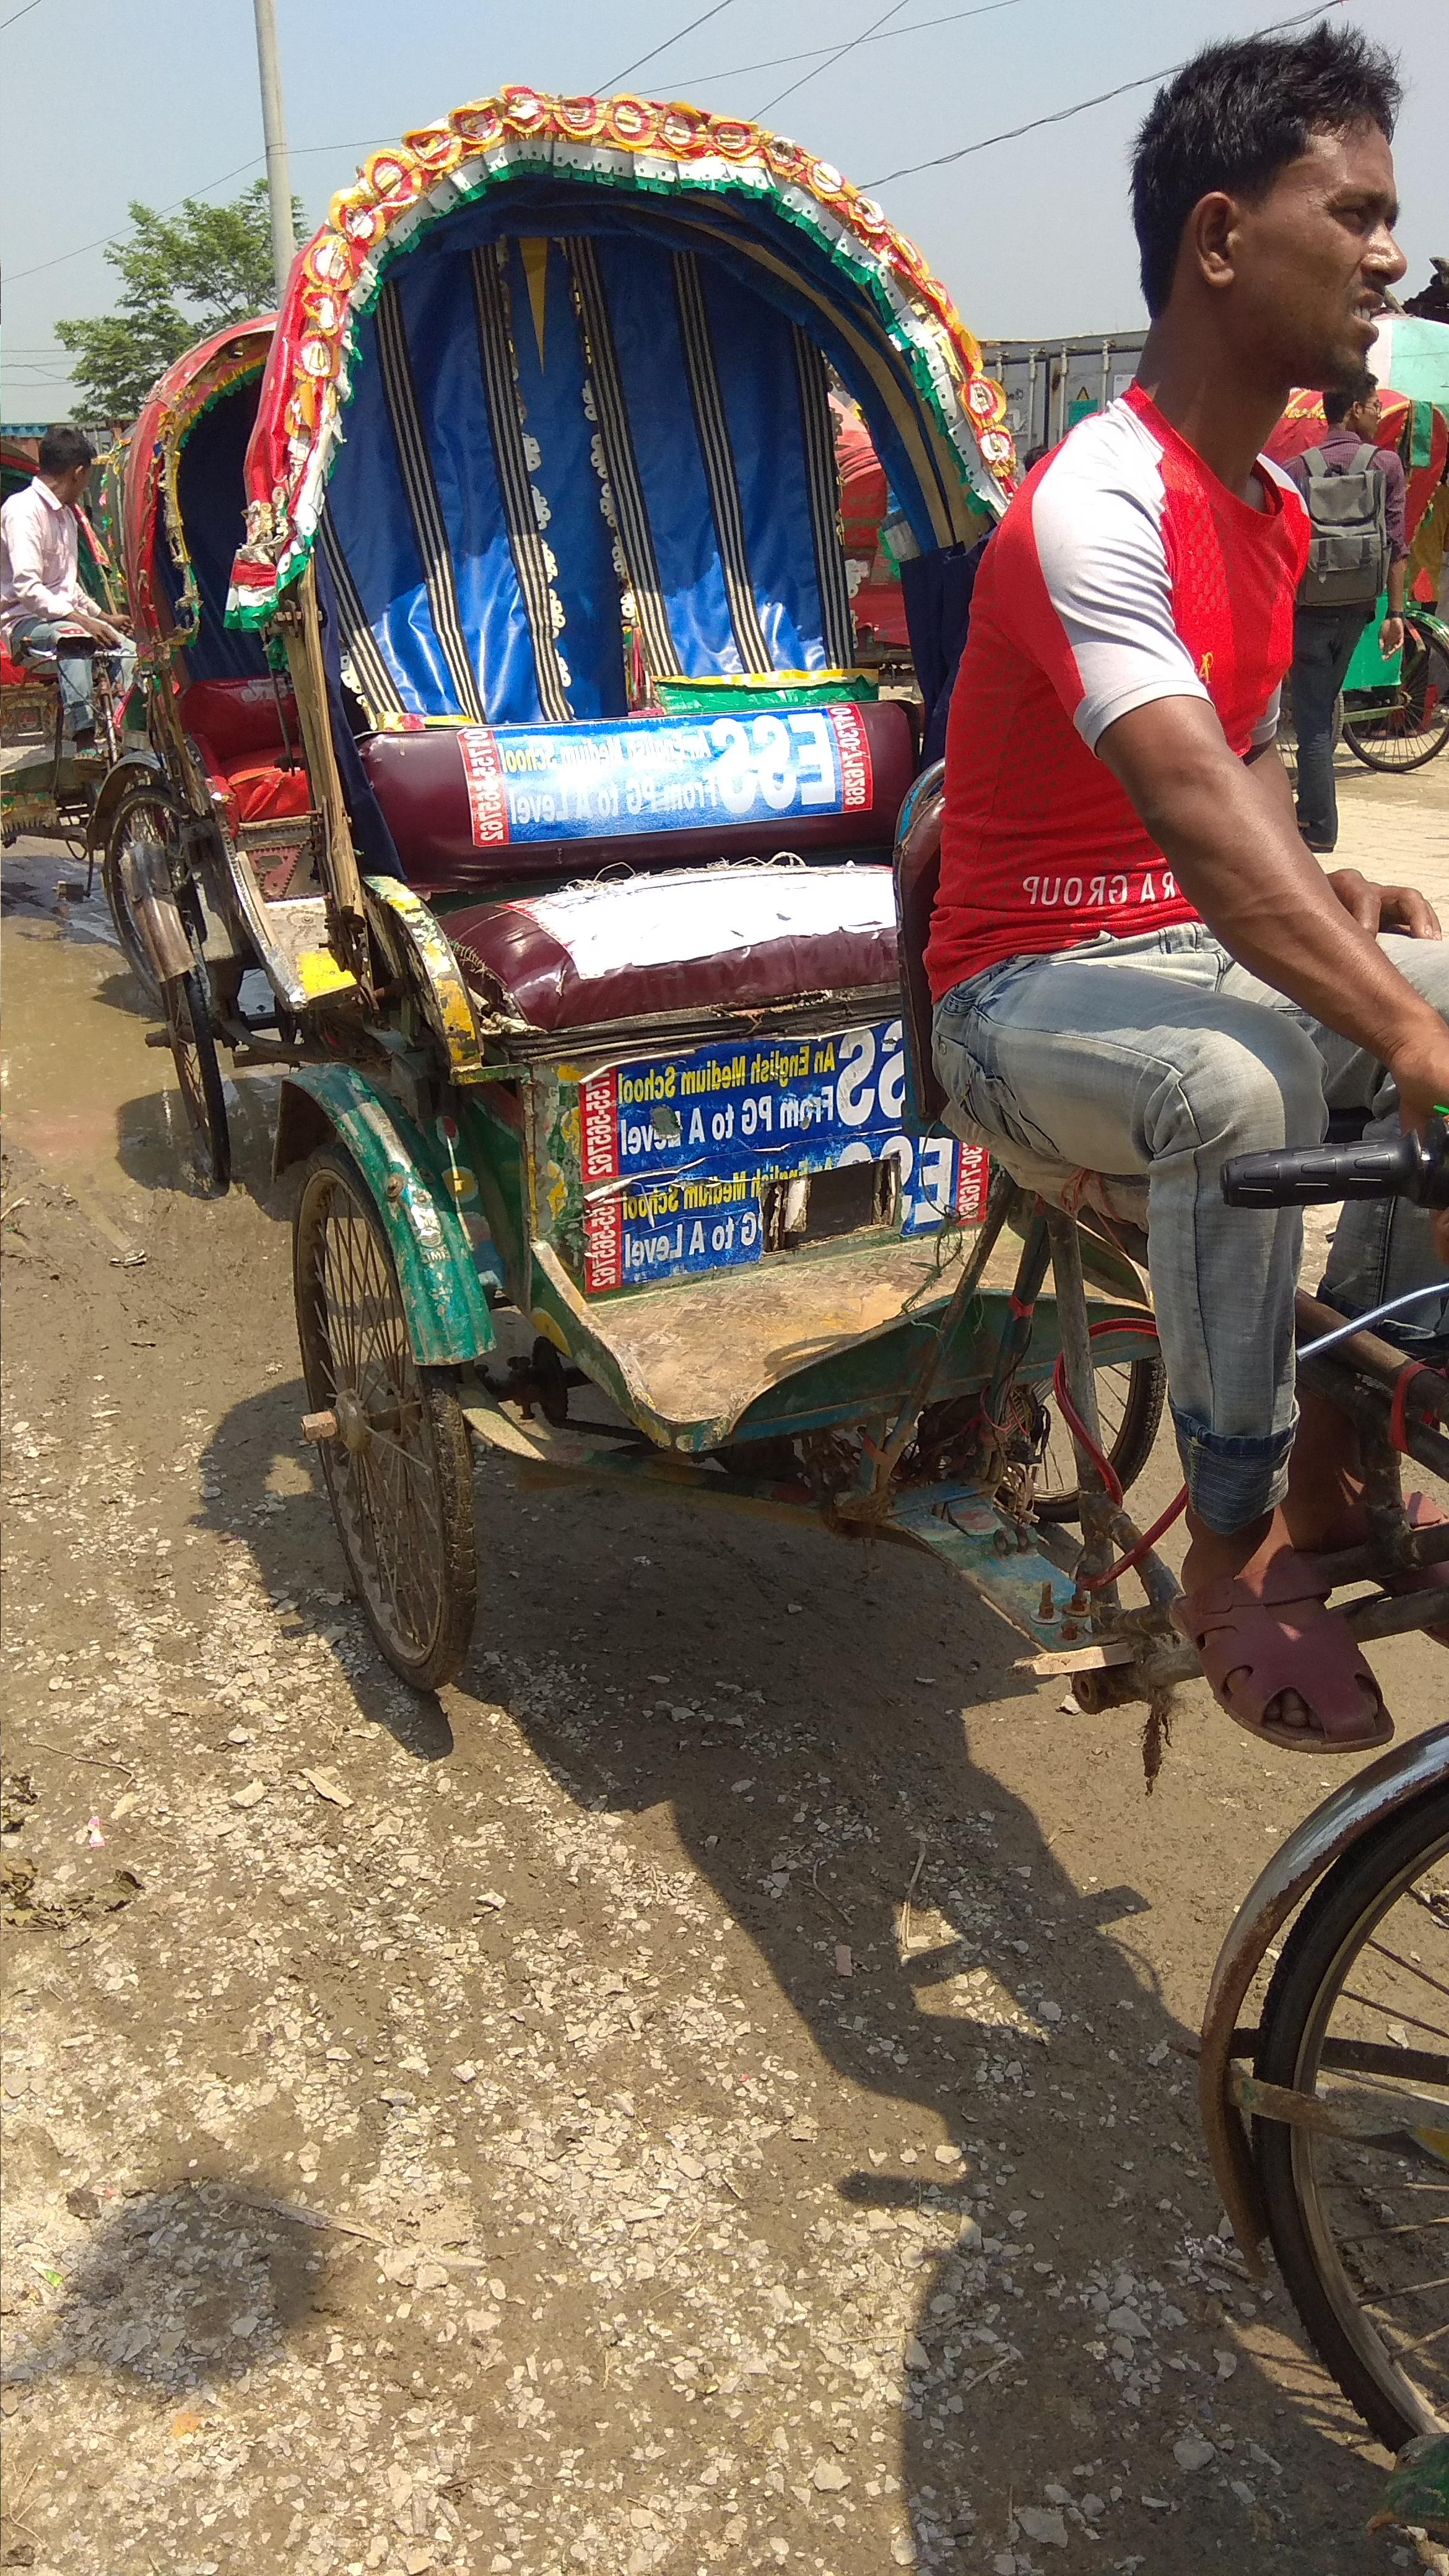Rickshaw: (276, 115, 1431, 1877), (87, 283, 389, 1212)
